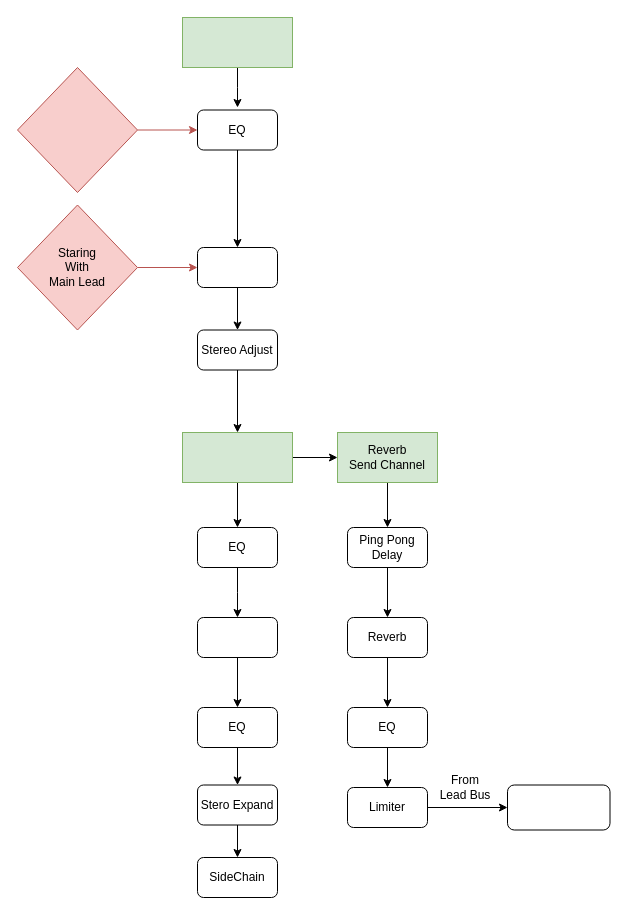
This 628x915 diagram has some shape labels left out. Each missing label, with the centre of its shape:
"Dont Cut Too Much On Main Lead" belongs at point 77,129.
"Gain Staging" belongs at point 237,267.
"Lead Bus" belongs at point 237,457.
"OTT" belongs at point 237,637.
"Splite Channel" belongs at point 237,42.
"Volume Control" belongs at point 558,807.
